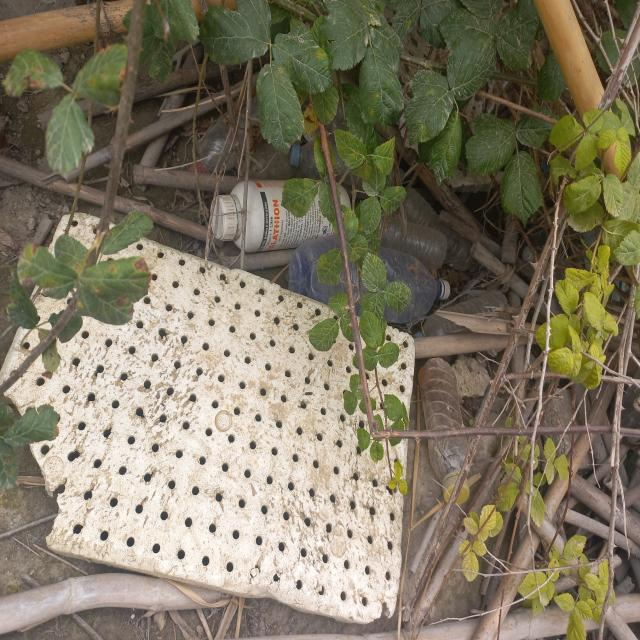Bottle: (290, 234, 452, 322), (210, 179, 351, 253), (418, 358, 473, 510), (326, 102, 406, 186), (186, 94, 261, 182), (402, 185, 476, 273), (412, 287, 510, 339), (375, 209, 444, 272), (290, 136, 362, 193), (244, 134, 293, 182), (613, 368, 640, 445)
Bottle cap: (521, 244, 532, 263)
Other plastic: (583, 230, 628, 301)
Styrofoam piece: (0, 210, 415, 627)
